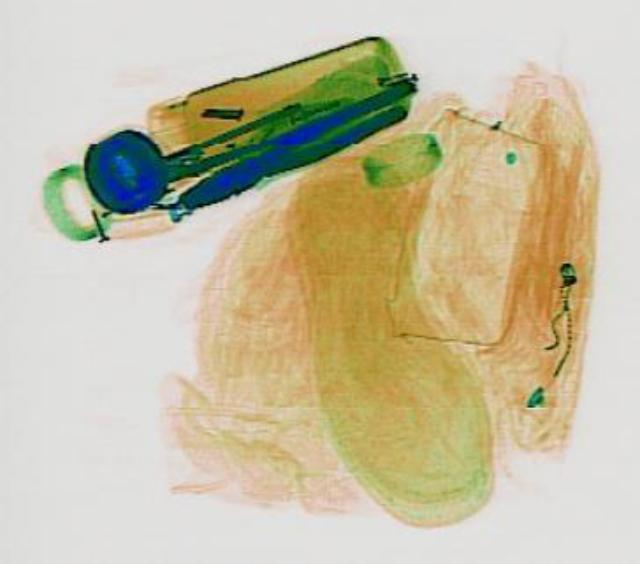Pliers: (165, 73, 427, 216)
